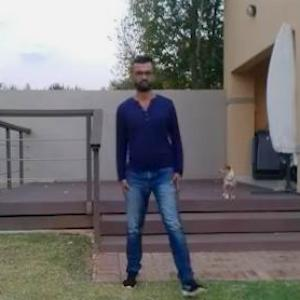follow: (114, 59, 170, 284)
